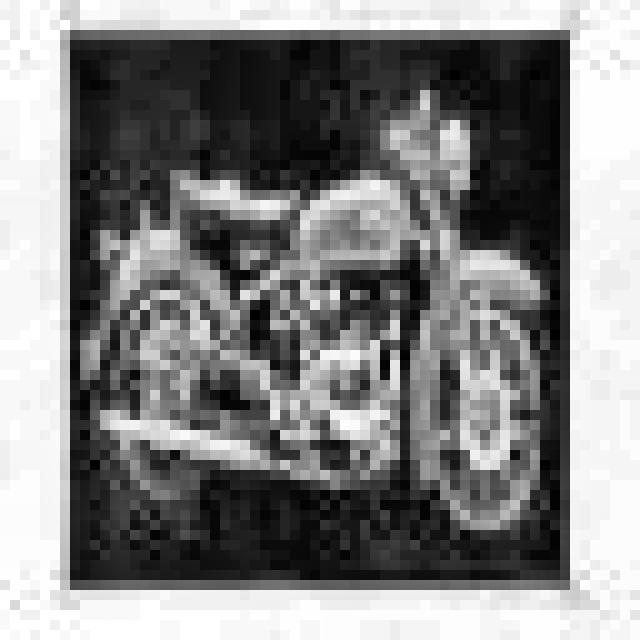mopeds: (67, 89, 563, 541)
